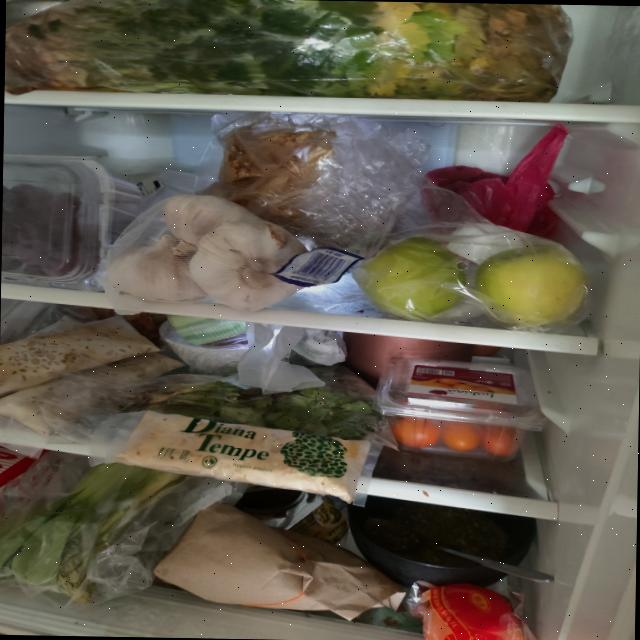apple: (473, 242, 588, 324), (363, 235, 468, 318)
garlic: (106, 192, 310, 313)
leafy_greens: (3, 0, 569, 103)
orange: (421, 583, 524, 640)
pakchoy: (0, 460, 185, 607)
tempeh: (114, 407, 371, 504), (0, 313, 187, 439)
unknown_bag: (423, 120, 568, 237)
